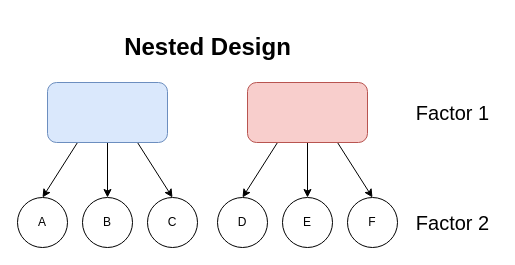
Some shapes in this 515 by 265 pixel diagram are drawn without their labels. Here are the shapes that lost their labels. From the top down, the centre of each, then its label:
At [107,112]: "Treatment A".
At [307,112]: "Treatment B".
